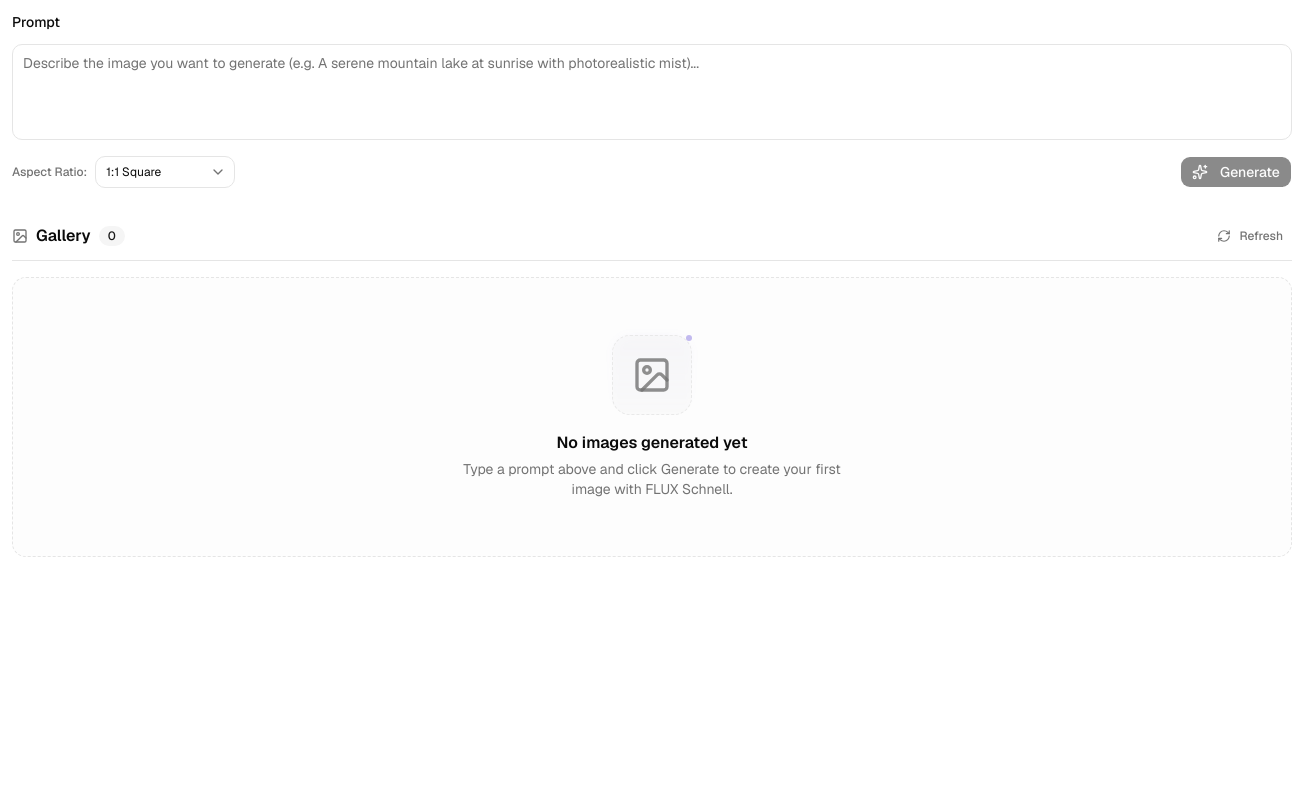
Test case: ImageWorkspace › keeps the generate button disabled until a prompt is entered
Expected: the button "Generate" is disabled, [1180,156,1292,188]
Replace the text in the text box with placeholder "Describe the image you want to generate" with "A majestic lion" at (652, 92), box [12,44,1292,140]
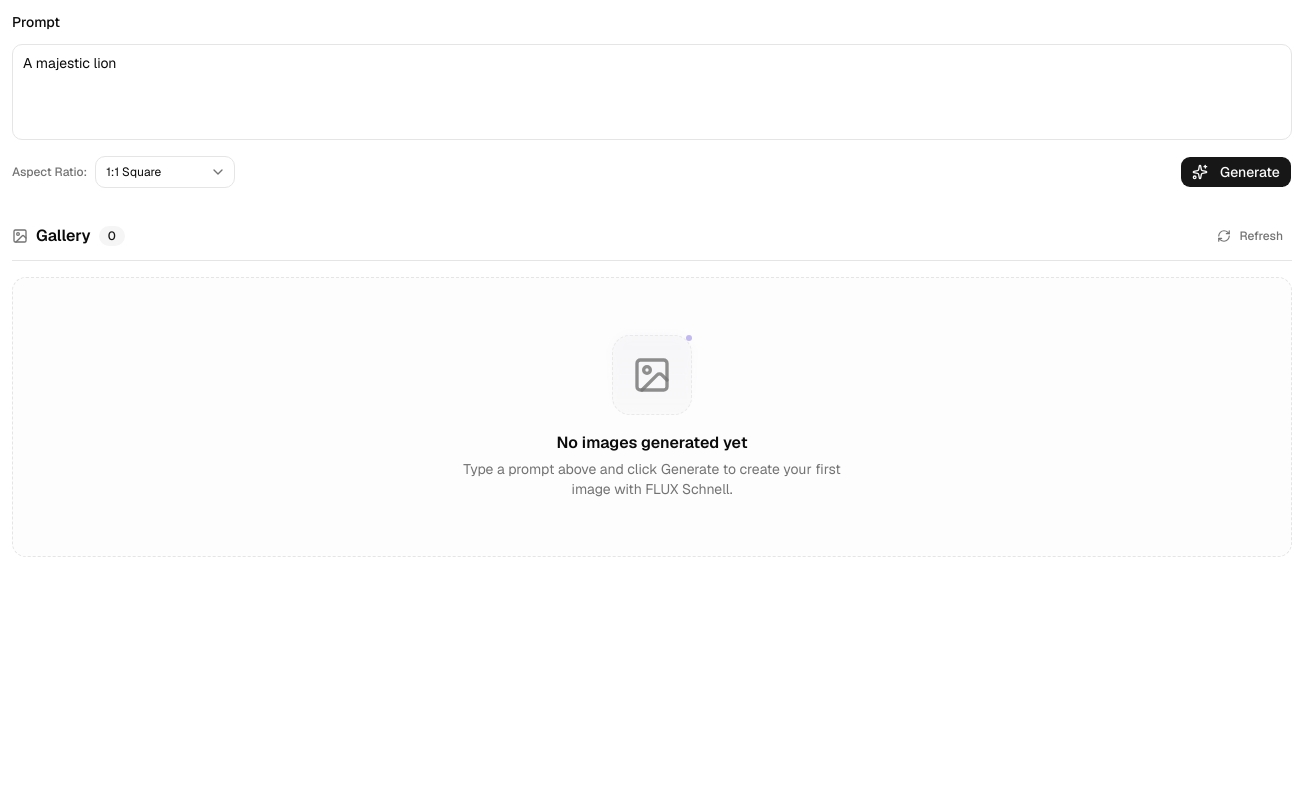
Expected: the button "Generate" is enabled, [1180,156,1292,188]
